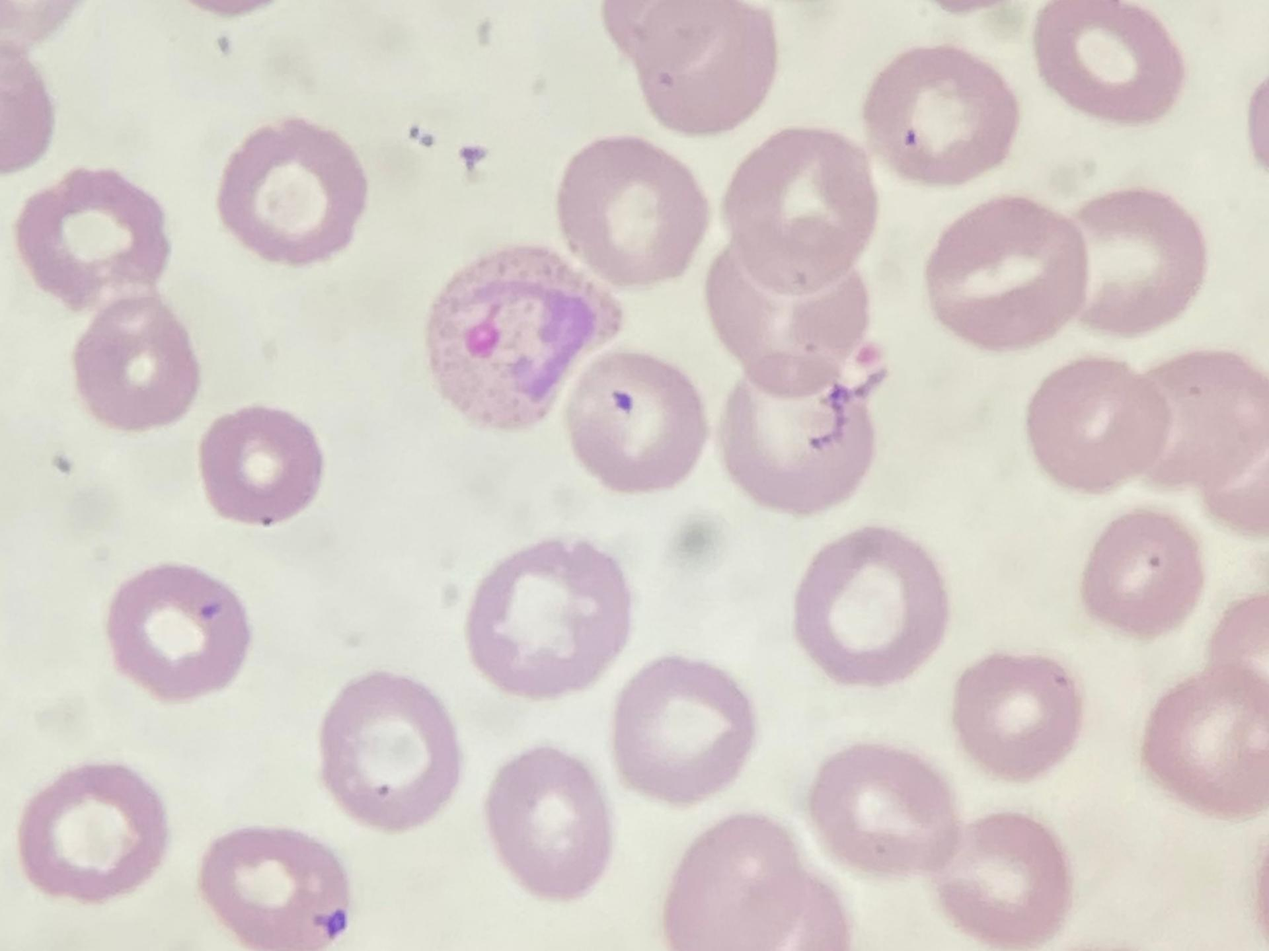Infected: (428, 245, 623, 430)
Uninfected: (467, 539, 631, 696), (925, 195, 1091, 348), (705, 243, 872, 394), (724, 129, 879, 291), (793, 526, 948, 683), (664, 816, 844, 948), (555, 137, 708, 287), (319, 673, 463, 830), (720, 374, 878, 515), (605, 1, 773, 132), (1142, 351, 1269, 522), (217, 119, 365, 265), (17, 167, 173, 305), (864, 46, 1019, 184), (17, 762, 166, 903), (611, 658, 755, 801), (1025, 358, 1174, 493), (808, 743, 960, 875), (1069, 188, 1206, 334), (484, 746, 614, 896), (107, 563, 249, 700), (571, 355, 708, 495), (1034, 1, 1184, 125), (1141, 670, 1269, 815), (931, 813, 1069, 945), (200, 827, 348, 950), (73, 296, 203, 432), (952, 654, 1081, 778), (1081, 510, 1204, 637), (199, 407, 323, 526)
